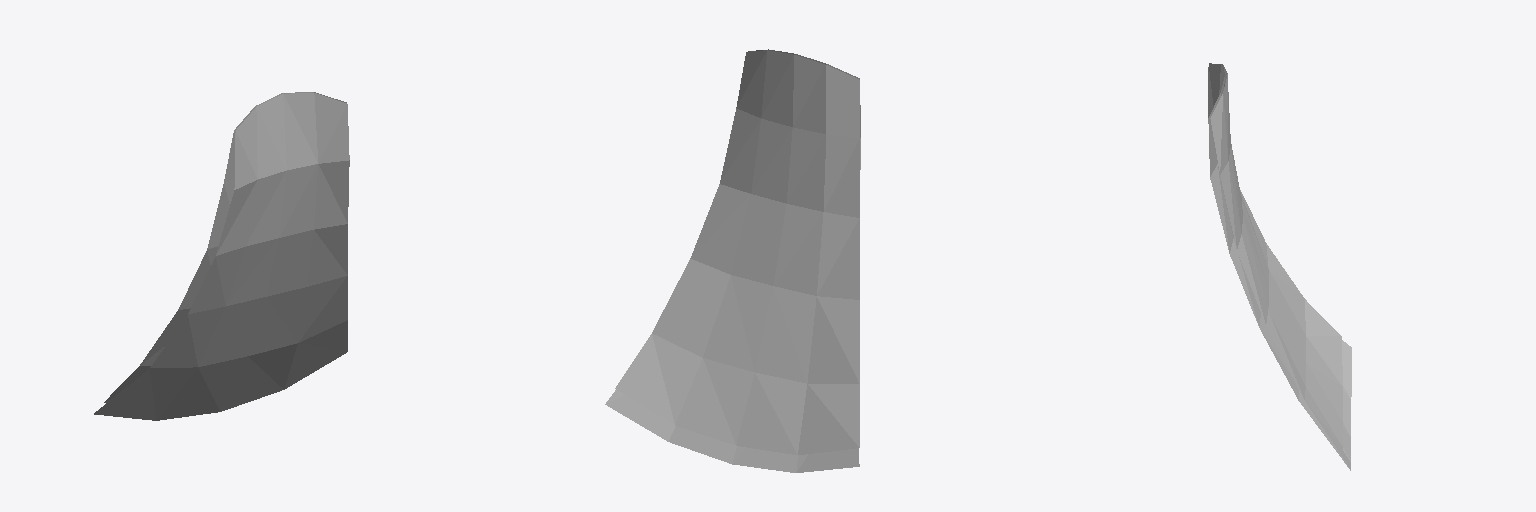
The model's file is LampShadeFaceB.obj.
3 renders of one model, left to right at view 1: azimuth 30°, elevation 25°; view 2: azimuth 150°, elevation 25°; view 3: azimuth 270°, elevation 25°, orthographic.
Parts seen in each view (by area): view 1: separat_5; view 2: separat_5; view 3: separat_5.
Part boxes in pixels (left/top/right/bottom): separat_5: left=94, top=92, right=349, bottom=420; separat_5: left=605, top=49, right=860, bottom=472; separat_5: left=1208, top=63, right=1351, bottom=470.
Bounding box in the file's own units: 0.1739 × 0.2378 × 0.0847.